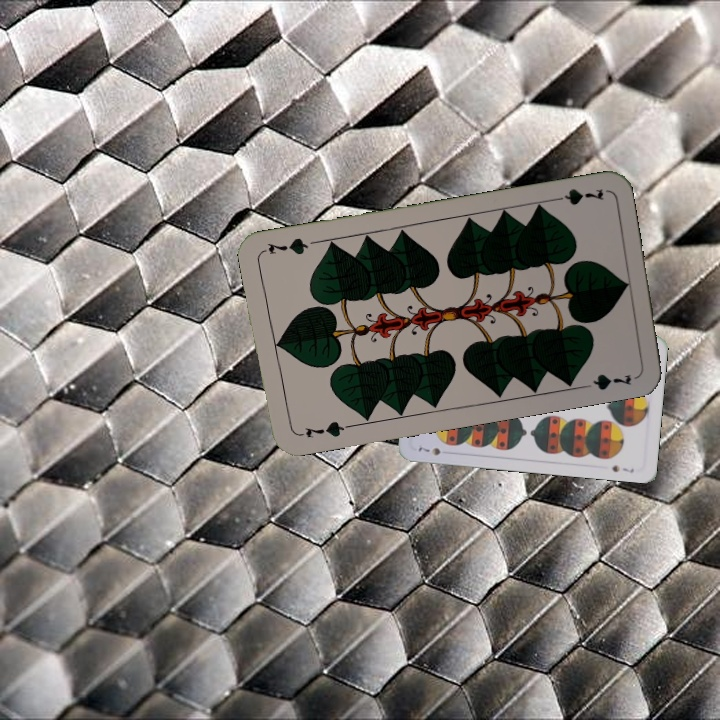G7: (547, 184, 607, 208), (293, 417, 353, 441)
S7: (414, 442, 443, 458)
